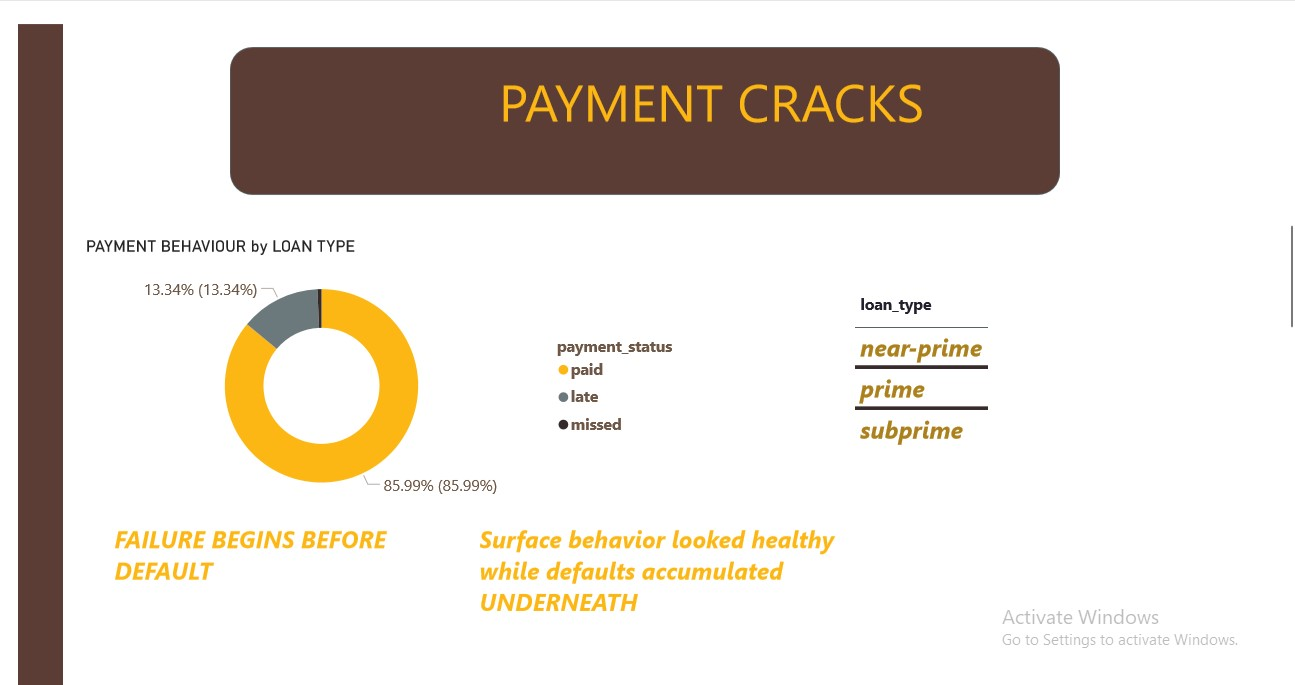

This screenshot's page, from the dashboard's own definition file:
{"tool":"powerbi","page":{"name":"PAYMENT CRACKS","canvas":[1280,720],"ordinal":2},"visuals":[{"type":"shape","box":[0,0,45,719.4],"z":0},{"type":"donutChart","title":"PAYMENT BEHAVIOUR by  LOAN TYPE","fields":{"Category":["vw_payment_behavior.payment_status"],"Y":["CountNonNull(vw_payment_behavior.loan_type)"]},"box":[64.3,215.7,631.4,287.1],"z":1000},{"type":"tableEx","fields":{"Values":["vw_payment_behavior.loan_type"]},"box":[848.6,267.1,238.6,184.3],"z":2000},{"type":"shape","box":[216.4,22.9,847.1,151.4],"z":3000},{"type":"textbox","box":[465.7,35.7,484.3,107.1],"z":4000},{"type":"textbox","box":[92.9,504.3,372.9,215.7],"z":5000},{"type":"textbox","box":[465.7,504.3,382.9,205.7],"z":6000}]}

Visuals, with their boxes on the page's 1280x720 design canvas (x1, y1, x2, y2). These are canvas units, not pixel positions in the 1295x685 screenshot, which may show the page scaled, cropped or inside an application window:
shape: box=[0, 0, 45, 719]
"PAYMENT BEHAVIOUR by  LOAN TYPE" donutChart: box=[64, 216, 696, 503]
tableEx - vw_payment_behavior.loan_type: box=[849, 267, 1087, 451]
shape: box=[216, 23, 1064, 174]
textbox: box=[466, 36, 950, 143]
textbox: box=[93, 504, 466, 720]
textbox: box=[466, 504, 849, 710]
